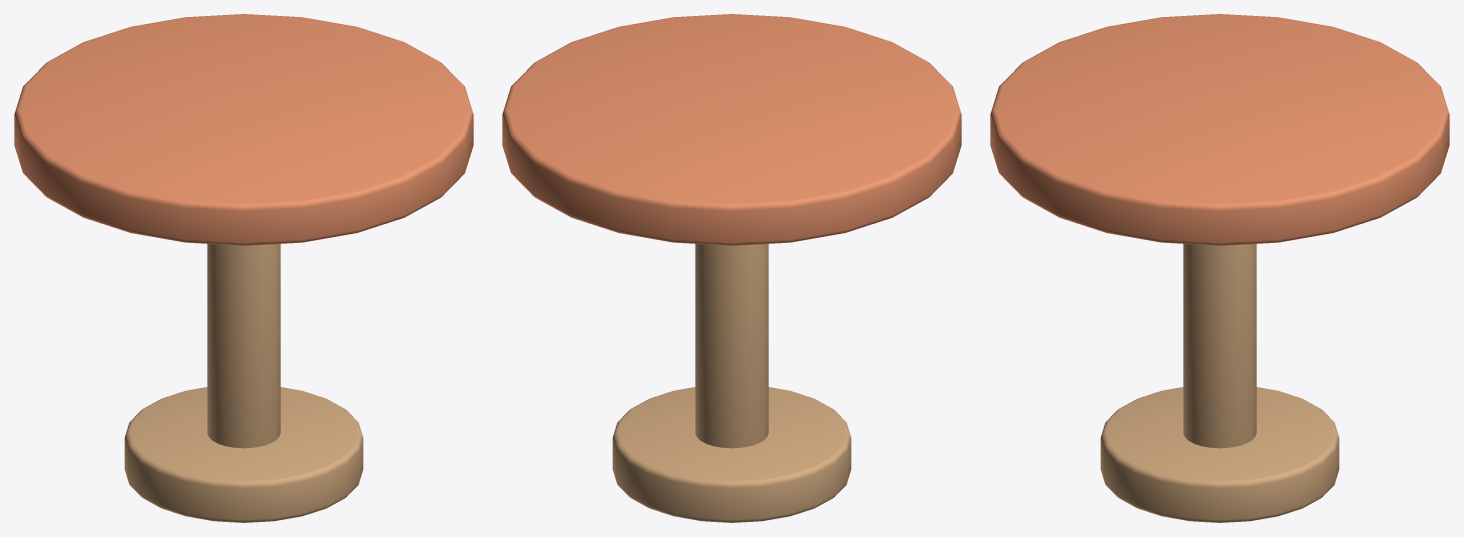
The model's file is cafe-table.glb.
3 renders of one model, left to right at view 1: azimuth 30°, elevation 25°; view 2: azimuth 150°, elevation 25°; view 3: azimuth 270°, elevation 25°, orthographic.
Visible parts, largest first — view 1: top.006, base.001, pedestal.001; view 2: top.006, base.001, pedestal.001; view 3: top.006, base.001, pedestal.001.
Part boxes in pixels (<box>): top.006: <box>14,14,473,245</box>; base.001: <box>124,387,363,522</box>; pedestal.001: <box>207,244,280,448</box>; top.006: <box>502,14,961,245</box>; base.001: <box>612,387,851,522</box>; pedestal.001: <box>695,244,768,448</box>; top.006: <box>990,14,1449,245</box>; base.001: <box>1100,387,1339,522</box>; pedestal.001: <box>1183,244,1256,448</box>.
Size of the model in its own units: 0.8 by 0.7024 by 0.8.
